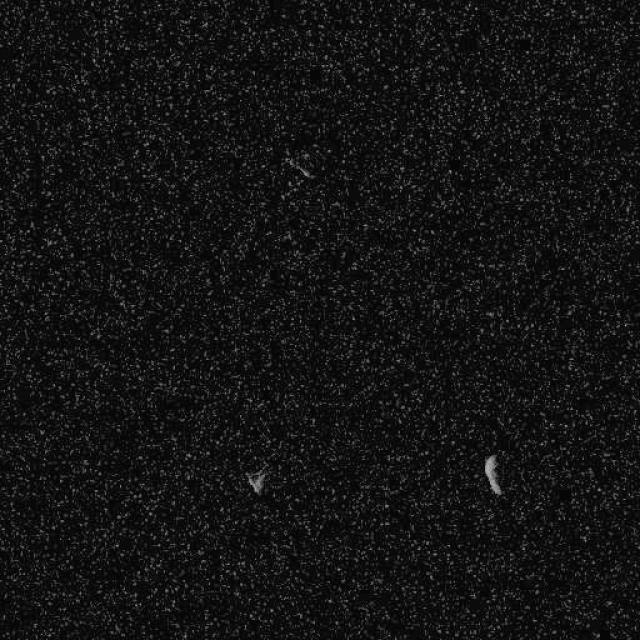D2: (482, 452, 503, 497), (244, 467, 268, 495)
